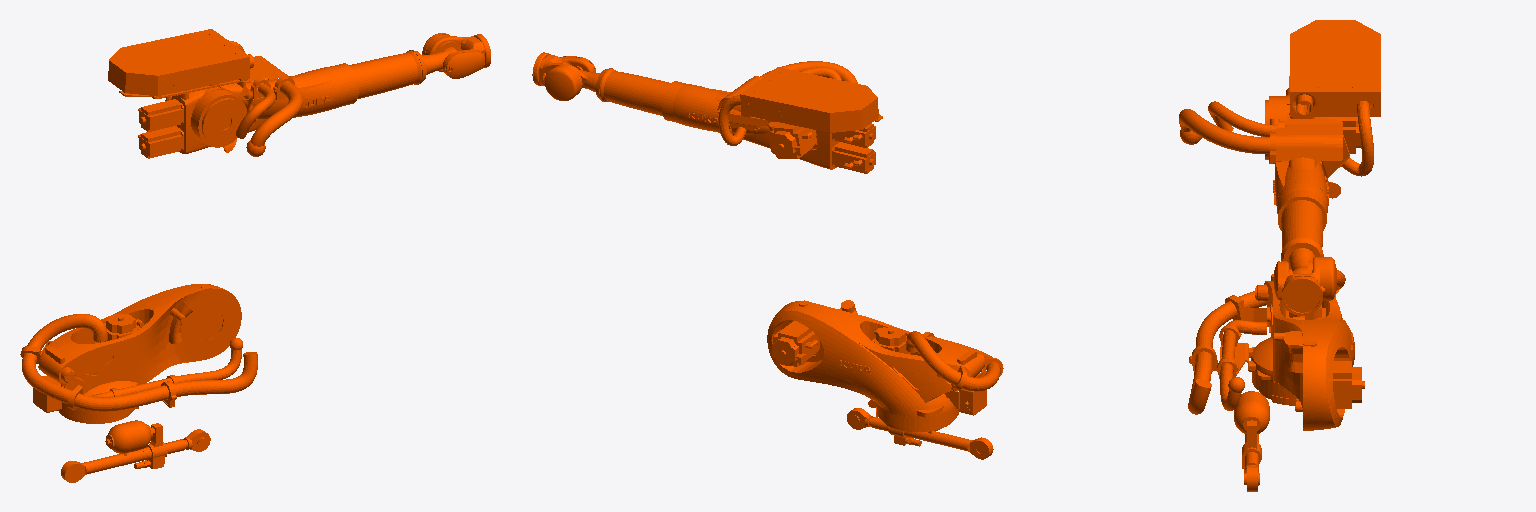
robot.urdf — kuka_kr150_r3700_ultra_k:
<?xml version="1.0"?>
<robot name="kuka_kr150_r3700_ultra_k">
  <material name="kuka_orange"><color rgba="1.00 0.40 0.00 1.0"/></material>
  <material name="kuka_dark_gray"><color rgba="0.20 0.20 0.20 1.0"/></material>

  <link name="base_link">
    <inertial>
      <origin xyz="-0.188277 0.000153 0.138686" rpy="0 0 0"/>
      <mass value="266.667"/>
      <inertia ixx="8.682592" ixy="0.109951" ixz="1.692096" iyy="13.769278" iyz="-0.038551" izz="18.879362"/>
    </inertial>
    <visual>
      <origin xyz="0 0 0" rpy="0 0 0"/>
      <geometry><mesh filename="meshes/visual/base_link.stl"/></geometry>
      <material name="kuka_dark_gray"/>
    </visual>
    <collision>
      <origin xyz="0 0 0" rpy="0 0 0"/>
      <geometry><mesh filename="meshes/visual/base_link.stl"/></geometry>
    </collision>
  </link>

  <link name="link_1">
    <inertial>
      <origin xyz="0.208365 -0.047321 0.488875" rpy="0 0 0"/>
      <mass value="265.900"/>
      <inertia ixx="11.015289" ixy="-2.256723" ixz="-2.599452" iyy="27.194409" iyz="-1.825696" izz="27.639242"/>
    </inertial>
    <visual>
      <origin xyz="0 0 0" rpy="0 0 0"/>
      <geometry><mesh filename="meshes/visual/link_1.stl"/></geometry>
      <material name="kuka_orange"/>
    </visual>
    <collision>
      <origin xyz="0 0 0" rpy="0 0 0"/>
      <geometry><mesh filename="meshes/visual/link_1.stl"/></geometry>
    </collision>
  </link>

  <link name="link_2">
    <inertial>
      <origin xyz="0.001358 -0.275709 0.599331" rpy="0 0 0"/>
      <mass value="819.500"/>
      <inertia ixx="132.659316" ixy="-0.120738" ixz="-0.656177" iyy="129.180622" iyz="8.520620" izz="14.825736"/>
    </inertial>
    <visual>
      <origin xyz="0 0 0" rpy="0 0 0"/>
      <geometry><mesh filename="meshes/visual/link_2.stl"/></geometry>
      <material name="kuka_orange"/>
    </visual>
    <collision>
      <origin xyz="0 0 0" rpy="0 0 0"/>
      <geometry><mesh filename="meshes/visual/link_2.stl"/></geometry>
    </collision>
  </link>

  <link name="link_3">
    <inertial>
      <origin xyz="0.164384 0.020473 0.084237" rpy="0 0 0"/>
      <mass value="621.600"/>
      <inertia ixx="19.847893" ixy="3.319621" ixz="7.479030" iyy="69.248298" iyz="-2.152736" izz="73.637776"/>
    </inertial>
    <visual>
      <origin xyz="0 0 0" rpy="0 0 0"/>
      <geometry><mesh filename="meshes/visual/link_3.stl"/></geometry>
      <material name="kuka_orange"/>
    </visual>
    <collision>
      <origin xyz="0 0 0" rpy="0 0 0"/>
      <geometry><mesh filename="meshes/visual/link_3.stl"/></geometry>
    </collision>
  </link>

  <link name="link_4">
    <inertial>
      <origin xyz="-0.112935 0.005035 0.000000" rpy="0 0 0"/>
      <mass value="70.500"/>
      <inertia ixx="0.244458" ixy="-0.028915" ixz="0.000006" iyy="0.677367" iyz="0.000302" izz="0.675506"/>
    </inertial>
    <visual>
      <origin xyz="0 0 0" rpy="0 0 0"/>
      <geometry><mesh filename="meshes/visual/link_4.stl"/></geometry>
      <material name="kuka_orange"/>
    </visual>
    <collision>
      <origin xyz="0 0 0" rpy="0 0 0"/>
      <geometry><mesh filename="meshes/visual/link_4.stl"/></geometry>
    </collision>
  </link>

  <link name="link_5">
    <inertial>
      <origin xyz="0.051347 0.015082 -0.000106" rpy="0 0 0"/>
      <mass value="66.500"/>
      <inertia ixx="0.540586" ixy="0.037689" ixz="0.000424" iyy="0.527792" iyz="-0.000106" izz="0.736976"/>
    </inertial>
    <visual>
      <origin xyz="0 0 0" rpy="0 0 0"/>
      <geometry><mesh filename="meshes/visual/link_5.stl"/></geometry>
      <material name="kuka_orange"/>
    </visual>
    <collision>
      <origin xyz="0 0 0" rpy="0 0 0"/>
      <geometry><mesh filename="meshes/visual/link_5.stl"/></geometry>
    </collision>
  </link>

  <link name="link_6">
    <inertial>
      <origin xyz="-0.014731 0.000013 -0.000218" rpy="0 0 0"/>
      <mass value="76.800"/>
      <inertia ixx="0.319656" ixy="-0.000004" ixz="-0.000063" iyy="0.206395" iyz="-0.001727" izz="0.205954"/>
    </inertial>
    <visual>
      <origin xyz="0 0 0" rpy="0 0 0"/>
      <geometry><mesh filename="meshes/visual/link_6.stl"/></geometry>
      <material name="kuka_dark_gray"/>
    </visual>
    <collision>
      <origin xyz="0 0 0" rpy="0 0 0"/>
      <geometry><mesh filename="meshes/visual/link_6.stl"/></geometry>
    </collision>
  </link>

  <link name="tool0"/>

  <joint name="joint_a1" type="revolute">
    <parent link="base_link"/>
    <child link="link_1"/>
    <origin xyz="0.000000 0.000000 0.000000" rpy="0 0 0"/>
    <axis xyz="0.0 0.0 -1.0"/>
    <limit lower="-3.228859" upper="3.228859" effort="9600.0" velocity="1.834634"/>
    <dynamics damping="5.0" friction="1.0"/>
  </joint>

  <joint name="joint_a2" type="revolute">
    <parent link="link_1"/>
    <child link="link_2"/>
    <origin xyz="0.750000 0.000000 0.590000" rpy="0 0 0"/>
    <axis xyz="0.0 1.0 0.0"/>
    <limit lower="-0.523599" upper="2.792527" effort="9600.0" velocity="1.762111"/>
    <dynamics damping="5.0" friction="1.0"/>
  </joint>

  <joint name="joint_a3" type="revolute">
    <parent link="link_2"/>
    <child link="link_3"/>
    <origin xyz="0.000000 0.000000 1.350000" rpy="0 0 0"/>
    <axis xyz="0.0 1.0 0.0"/>
    <limit lower="-3.665191" upper="1.134464" effort="6847.9" velocity="1.867525"/>
    <dynamics damping="5.0" friction="1.0"/>
  </joint>

  <joint name="joint_a4" type="revolute">
    <parent link="link_3"/>
    <child link="link_4"/>
    <origin xyz="1.600000 0.000000 -0.041000" rpy="0 0 0"/>
    <axis xyz="-1.0 0.0 -0.0"/>
    <limit lower="-6.108652" upper="6.108652" effort="2244.3" velocity="3.116122"/>
    <dynamics damping="5.0" friction="1.0"/>
  </joint>

  <joint name="joint_a5" type="revolute">
    <parent link="link_4"/>
    <child link="link_5"/>
    <origin xyz="0.000000 0.000000 0.000000" rpy="0 0 0"/>
    <axis xyz="0.0 1.0 0.0"/>
    <limit lower="-2.181662" upper="2.181662" effort="1344.3" velocity="3.007767"/>
    <dynamics damping="5.0" friction="1.0"/>
  </joint>

  <joint name="joint_a6" type="revolute">
    <parent link="link_5"/>
    <child link="link_6"/>
    <origin xyz="0.215000 0.000000 0.000000" rpy="0 0 0"/>
    <axis xyz="-1.0 0.0 -0.0"/>
    <limit lower="-6.108652" upper="6.108652" effort="856.5" velocity="3.829921"/>
    <dynamics damping="5.0" friction="1.0"/>
  </joint>

  <joint name="link_6-tool0" type="fixed">
    <parent link="link_6"/>
    <child link="tool0"/>
    <origin xyz="0.000000 0.000000 0.000000" rpy="0 1.57079632679 0"/>
  </joint>
</robot>

--- Render facts (derived) ---
The picture shows the robot from 3 angles, left to right: view 1: azimuth 30°, elevation 25°; view 2: azimuth 150°, elevation 25°; view 3: azimuth 270°, elevation 25°; orthographic projection.
Model kuka_kr150_r3700_ultra_k with 8 links and 7 joints (6 revolute, 1 fixed), rooted at base_link, posed every joint at zero.
Links seen in each view (by area): view 1: link_1, link_3, link_5, link_4; view 2: link_1, link_3, link_5; view 3: link_3, link_1, link_5, link_4.
Boxes of the visible links, box(x1,y1,x2,y2) form: link_1: box(20, 284, 257, 482); link_3: box(108, 29, 421, 158); link_5: box(422, 33, 490, 78); link_4: box(409, 41, 461, 84); link_1: box(767, 300, 1003, 459); link_3: box(600, 61, 882, 173); link_5: box(532, 52, 595, 100); link_3: box(1179, 20, 1380, 249); link_1: box(1188, 270, 1364, 491); link_5: box(1273, 257, 1336, 315); link_4: box(1281, 238, 1323, 274).
Bounding box of the posed robot: 3.03 × 0.9725 × 2.37 m (x, y, z).
Meshes: 7 distinct files referenced, 4 mesh visuals loaded (4 binary STL); not drawn: 3 (reference not matched to a file when rendering).
